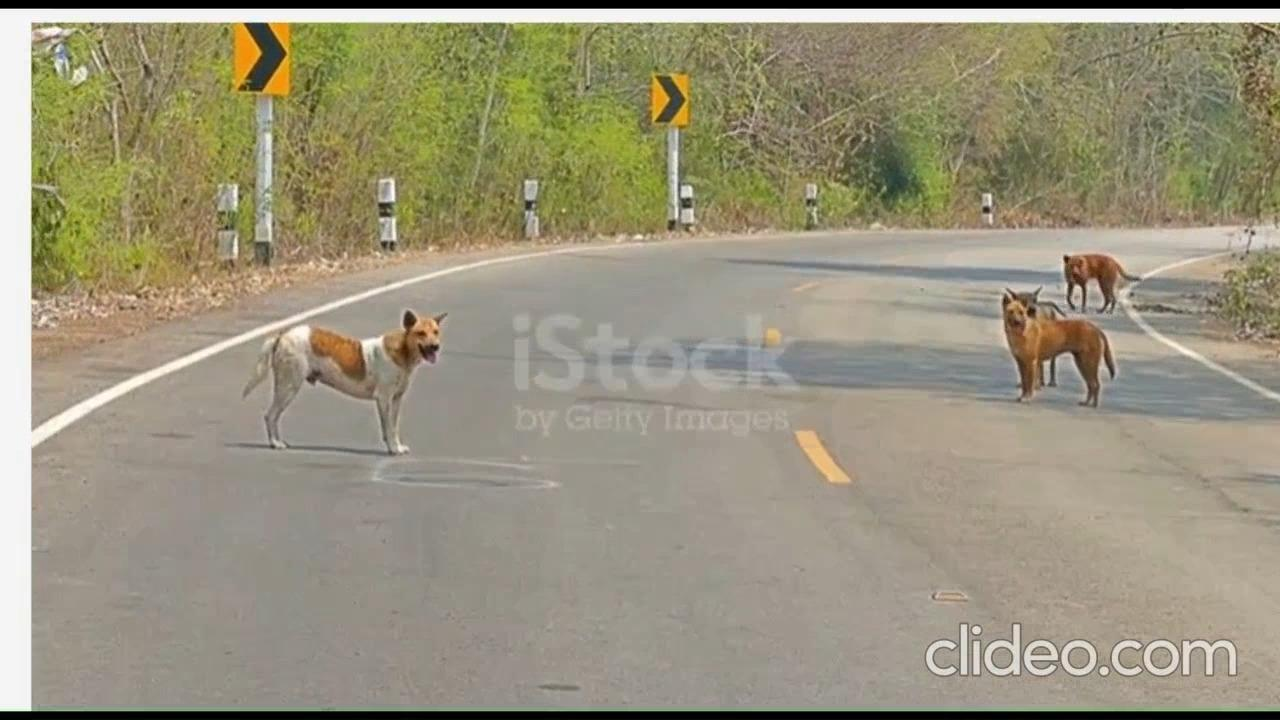dog: (255, 304, 456, 456), (991, 288, 1114, 415), (1051, 239, 1145, 319)
